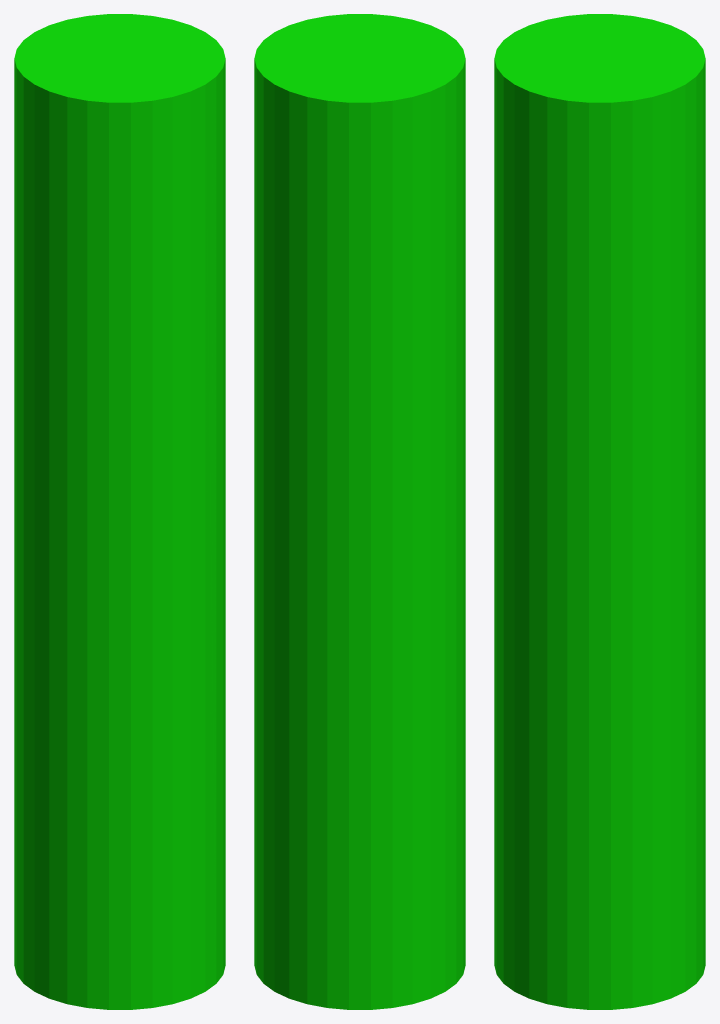
3 views of the same model, side by side, from view 1: azimuth 30°, elevation 25°; view 2: azimuth 150°, elevation 25°; view 3: azimuth 270°, elevation 25° (orthographic).
Parts seen in each view (by area): view 1: Circle.049; view 2: Circle.049; view 3: Circle.049.
Part boxes in pixels (left/top/right/bottom): Circle.049: left=14, top=14, right=225, bottom=1009; Circle.049: left=254, top=14, right=465, bottom=1009; Circle.049: left=494, top=14, right=705, bottom=1009.
Size of the model in its own units: 590 by 2812 by 593.
